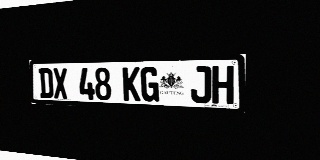4: (78, 68, 95, 100)
8: (94, 67, 111, 100)
D: (38, 68, 54, 98)
G: (140, 67, 159, 102)
H: (212, 66, 234, 104)
J: (191, 66, 211, 104)
K: (122, 67, 140, 101)
X: (53, 68, 68, 99)
